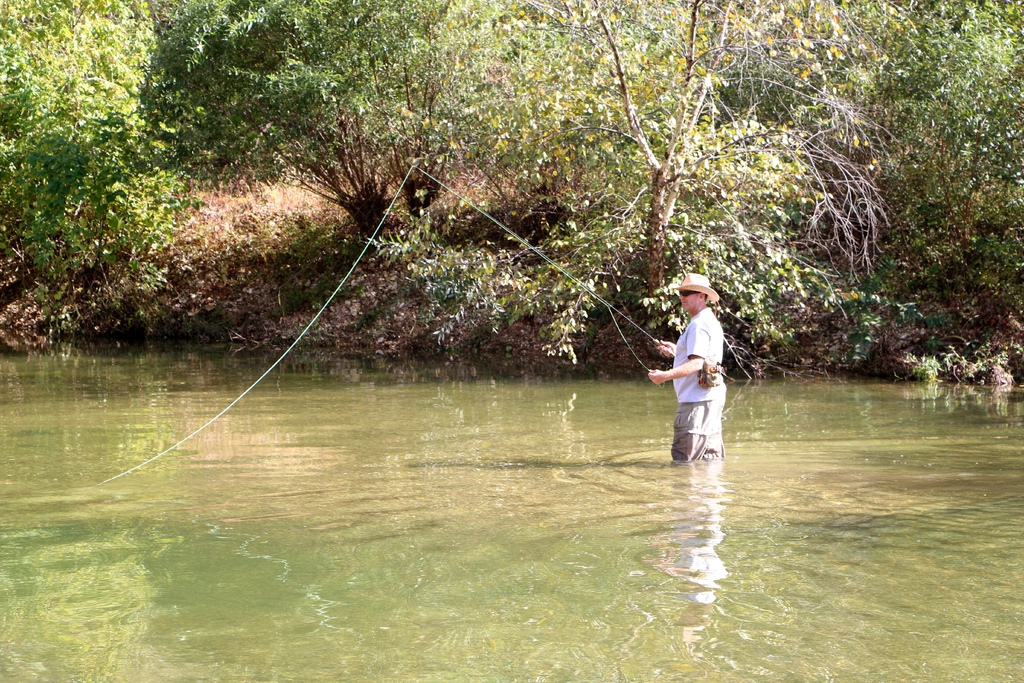Tree: (0, 0, 1024, 364)
